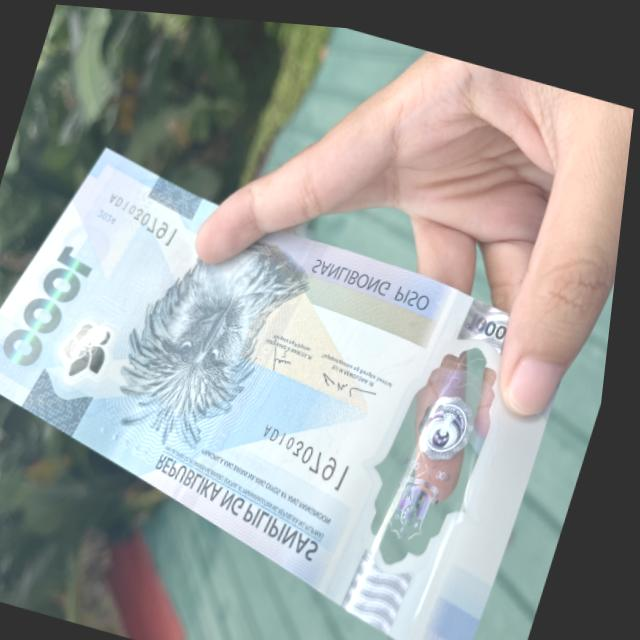clear_window: (353, 317, 526, 561)
eagle: (103, 212, 316, 449)
sampaguita: (53, 276, 146, 397)
security_thread: (194, 202, 328, 517)
serial_number: (245, 401, 383, 505), (98, 177, 197, 252)
value_watermark: (468, 290, 522, 336)
